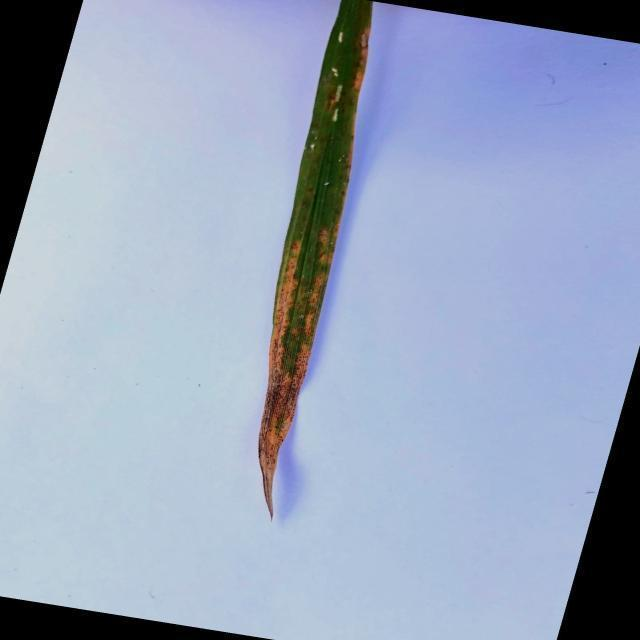Rice Tungro: (260, 223, 344, 516)
